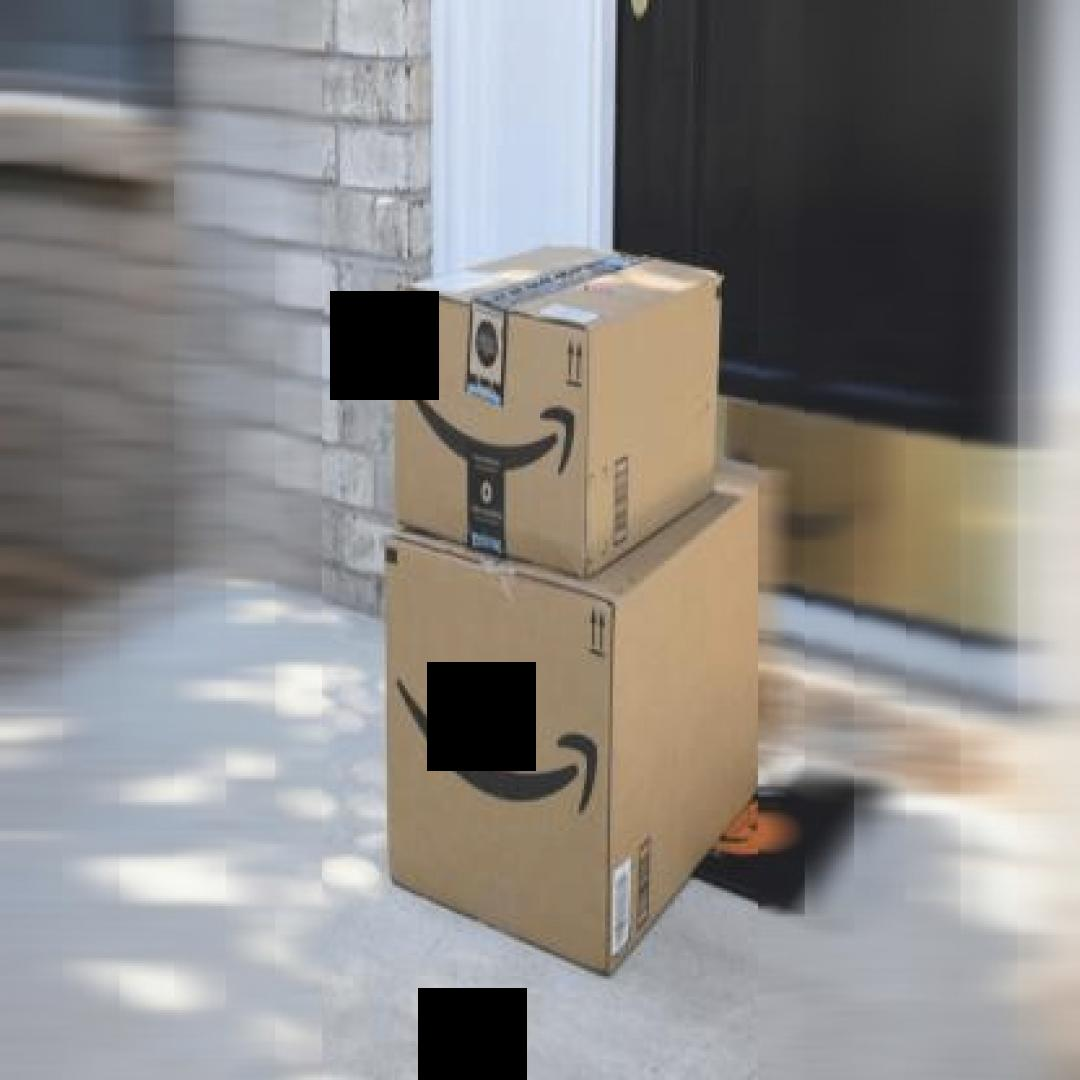package: (384, 456, 776, 986), (392, 239, 725, 584)
